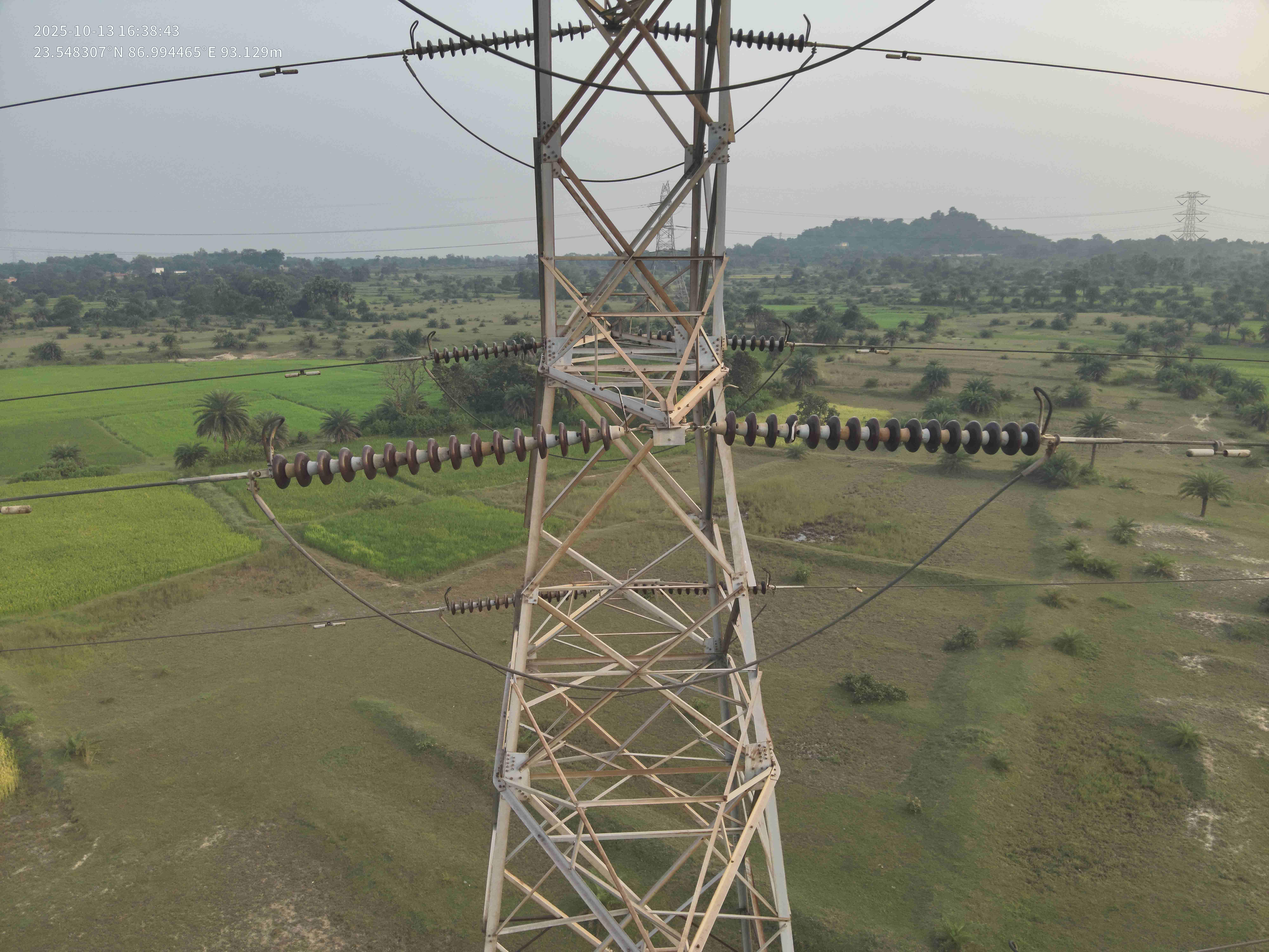broken_insulator: (781, 411, 803, 446)
